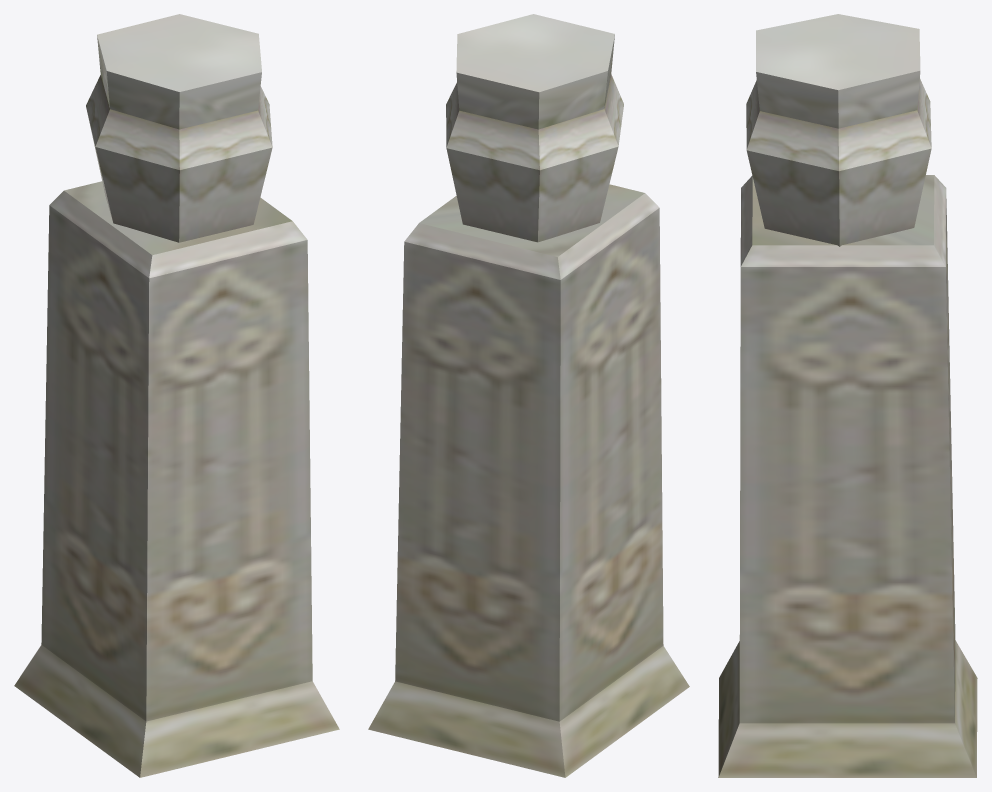
The model's file is W3_HD_GongHuiBoss_hulan_02_02_D.FBX.
3 renders of one model, left to right at view 1: azimuth 30°, elevation 25°; view 2: azimuth 150°, elevation 25°; view 3: azimuth 270°, elevation 25°, orthographic. The views are drawn at different scales.
Visible parts, largest first — view 1: W3_HD_GongHuiBoss_hulan_02_02_D; view 2: W3_HD_GongHuiBoss_hulan_02_02_D; view 3: W3_HD_GongHuiBoss_hulan_02_02_D.
Boxes of the visible parts, bbox=[...] form: W3_HD_GongHuiBoss_hulan_02_02_D: bbox=[14, 14, 339, 777]; W3_HD_GongHuiBoss_hulan_02_02_D: bbox=[368, 14, 689, 777]; W3_HD_GongHuiBoss_hulan_02_02_D: bbox=[718, 14, 977, 777].
Size of the model in its own units: 0.5684 by 1.79 by 0.6216.
